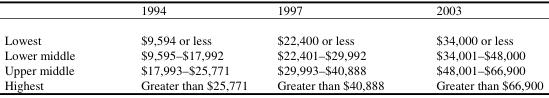table: (3, 4, 542, 91)
table column: (107, 4, 261, 91), (261, 4, 409, 91), (409, 4, 542, 91), (3, 4, 107, 91)
table column header: (3, 4, 542, 25)
table row: (3, 25, 542, 48), (3, 4, 542, 25), (3, 48, 542, 63), (3, 63, 542, 78), (3, 78, 542, 91)
